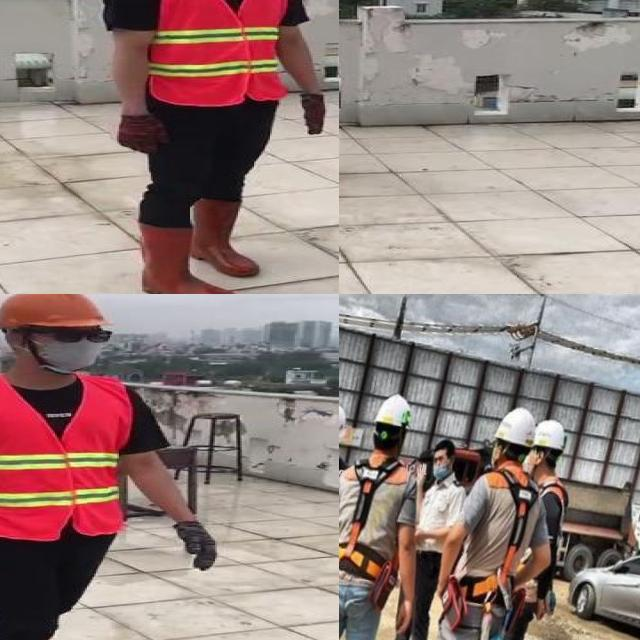Harness: (472, 469, 539, 608), (339, 460, 401, 582)
boots: (136, 219, 236, 294), (192, 199, 261, 275)
face_mask: (25, 323, 110, 373)
glasses: (44, 324, 119, 349)
hand_glove: (168, 521, 218, 572), (116, 113, 170, 153), (299, 93, 325, 138)
head_helmet: (0, 294, 110, 330)
person: (0, 294, 229, 640), (95, 0, 333, 294)
vest: (0, 376, 126, 539), (145, 0, 286, 105)
